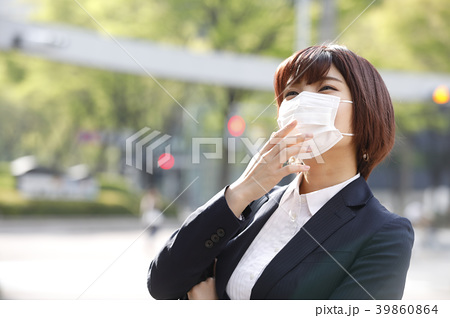mask: (271, 90, 343, 156)
